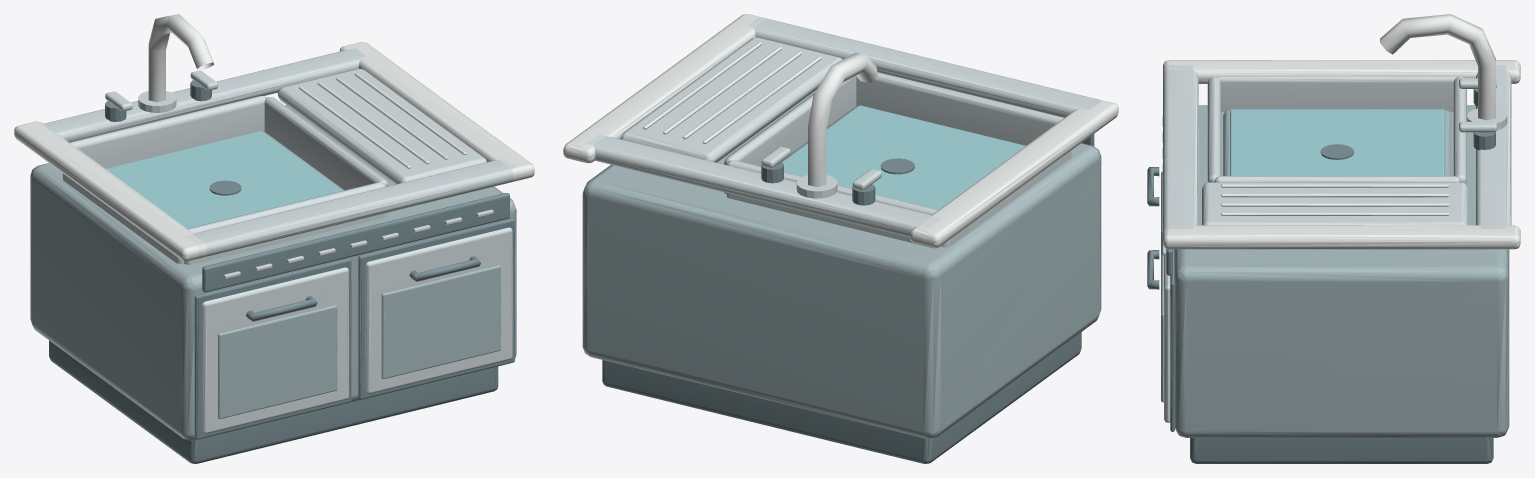
Rendered from Sink.fbx.
3 views of the same model, side by side, from view 1: azimuth 30°, elevation 25°; view 2: azimuth 150°, elevation 25°; view 3: azimuth 270°, elevation 25° (orthographic). The views are drawn at different scales.
Visible parts, largest first — view 1: Sink.002; view 2: Sink.002; view 3: Sink.002.
Boxes of the visible parts, <box> form: Sink.002: <box>14,14,534,463</box>; Sink.002: <box>563,14,1118,463</box>; Sink.002: <box>1147,14,1520,463</box>.
Size of the model in its own units: 1.9 by 1.72 by 1.67.
